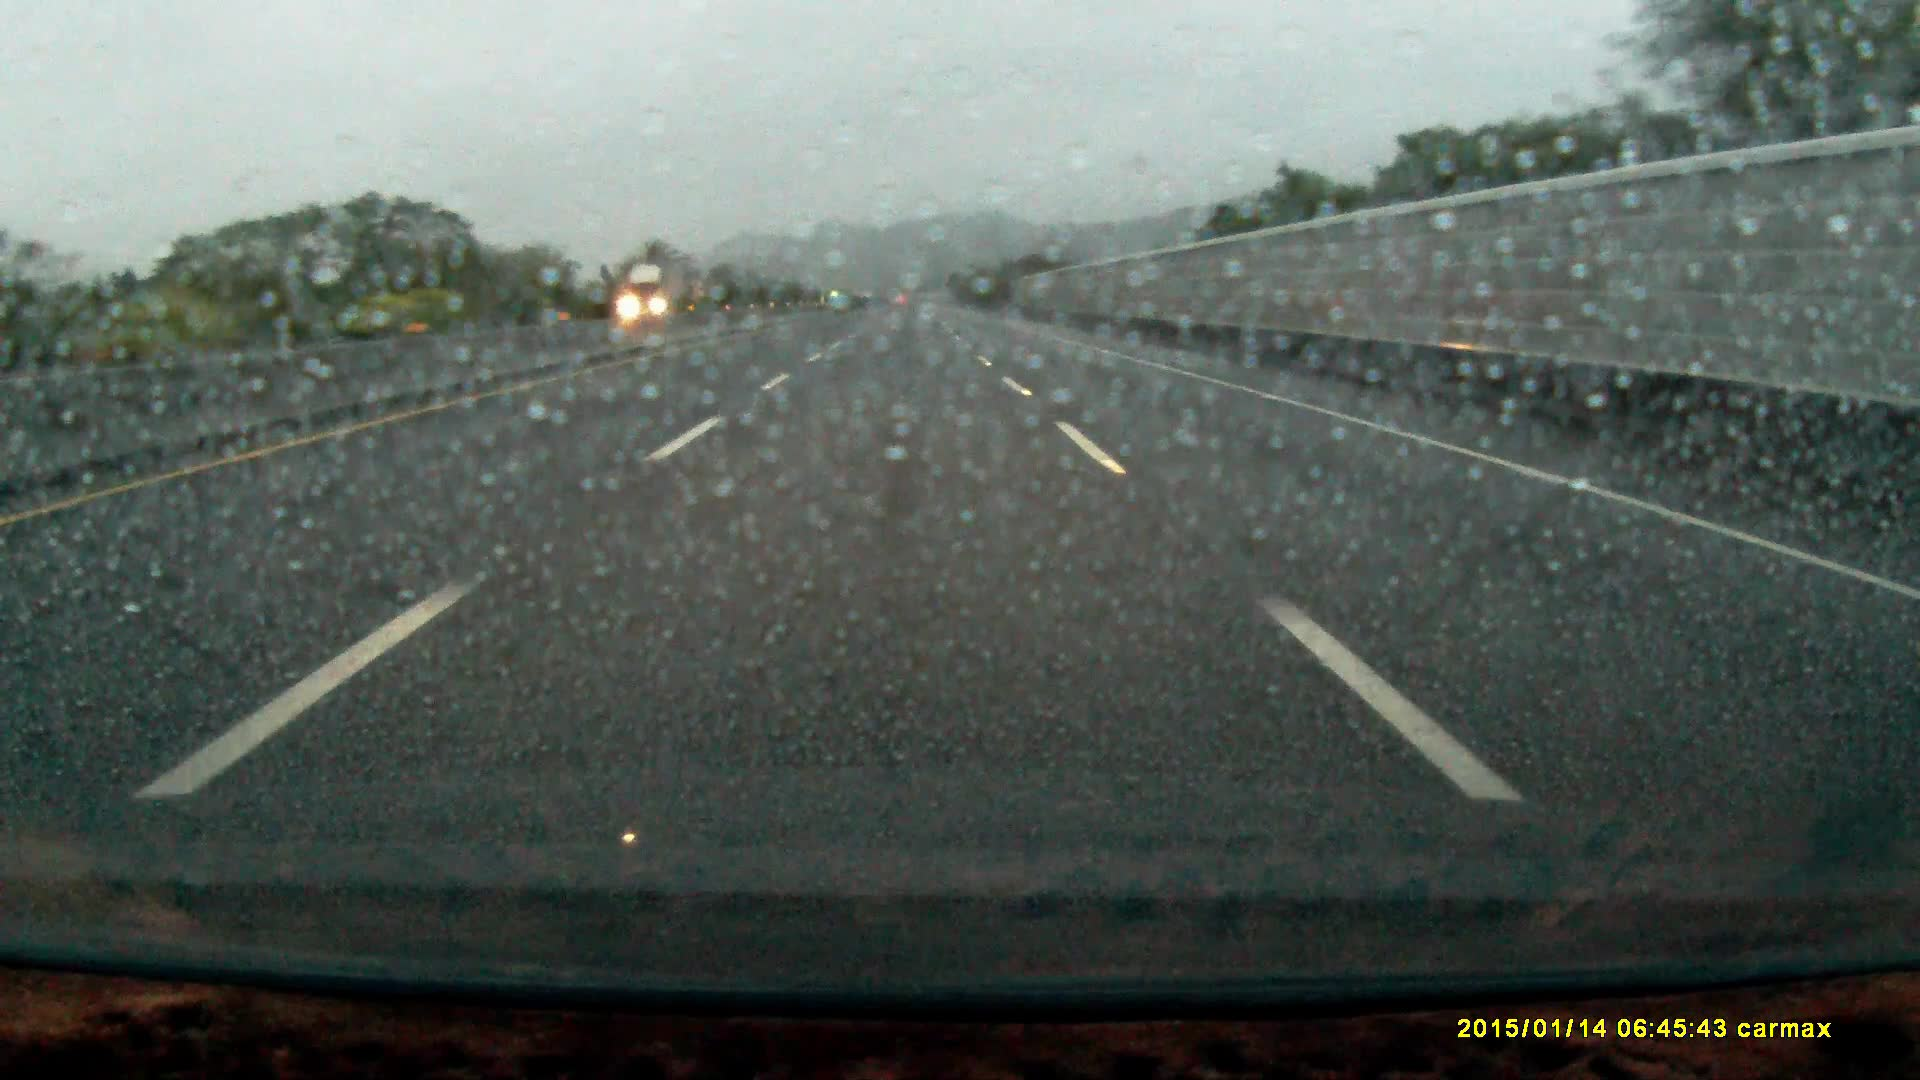vehicle: (618, 264, 696, 319)
